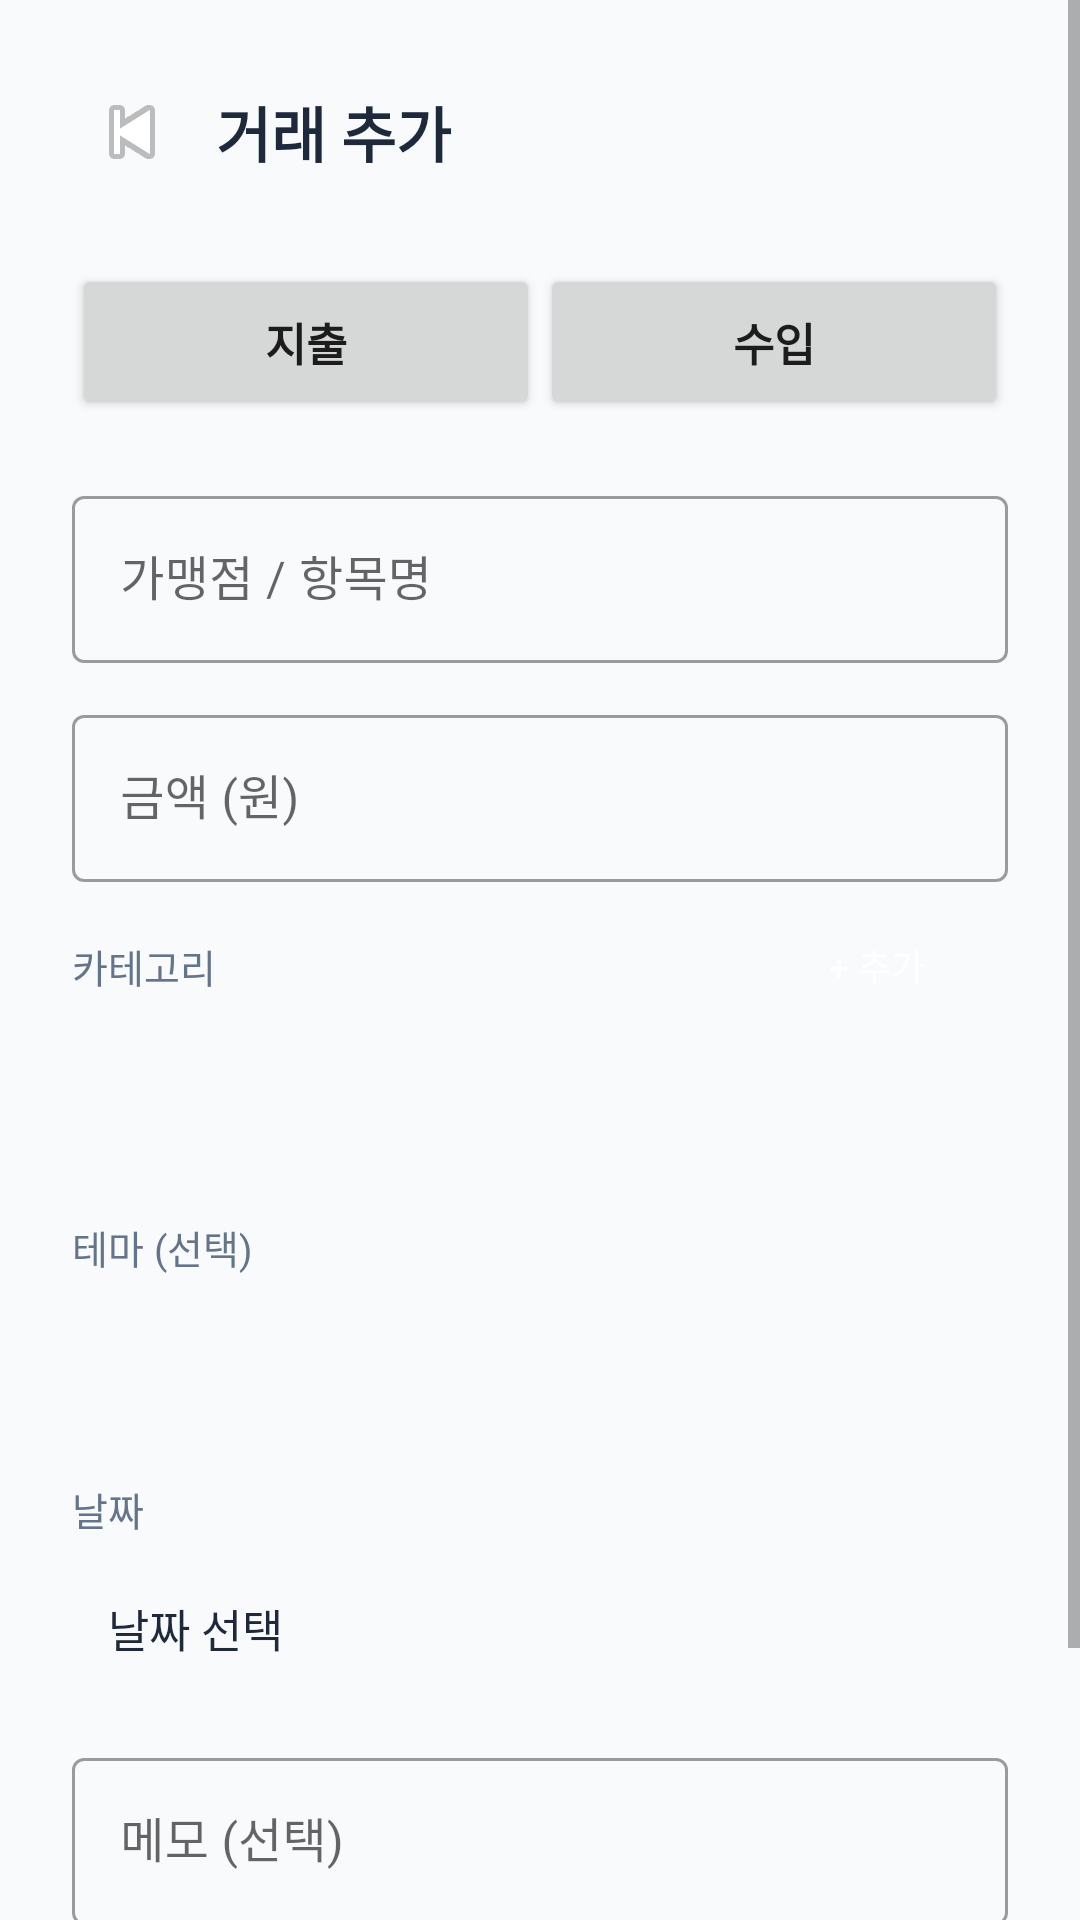

Point at icon controls on the screen. Image size 1080 × 1920, points as [x,y].
previous: [132,132]
